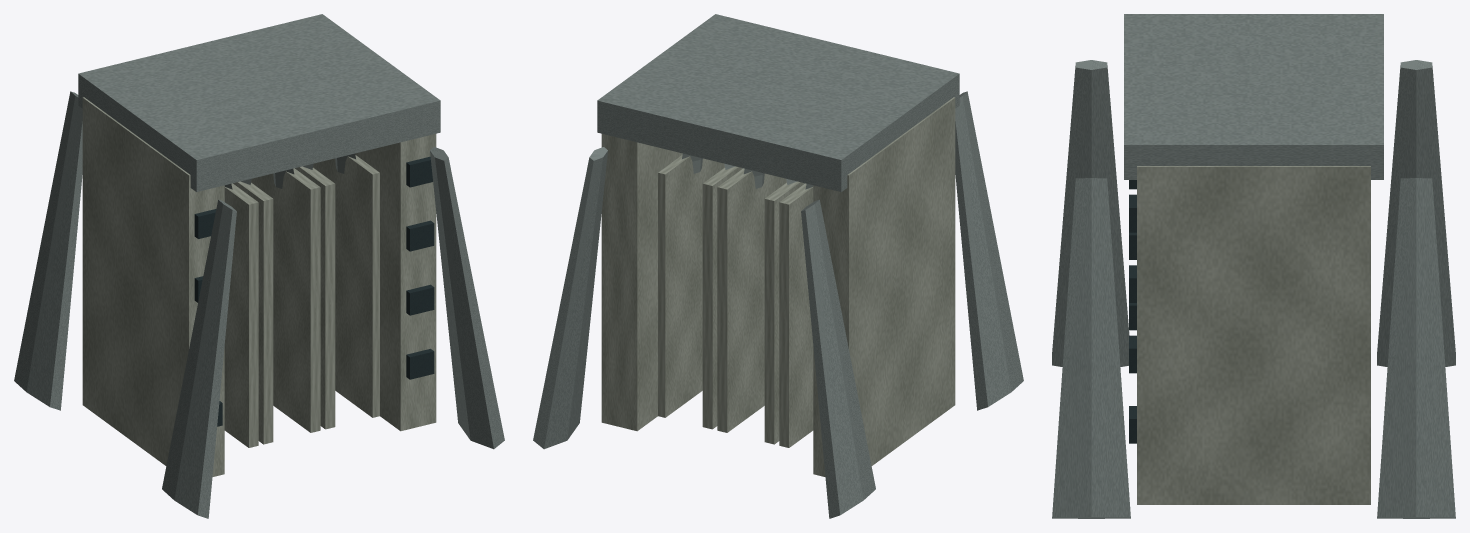
The model's file is rim_portal_01.fbx.
The picture shows the model from 3 angles, left to right: view 1: azimuth 30°, elevation 25°; view 2: azimuth 150°, elevation 25°; view 3: azimuth 270°, elevation 25°; orthographic projection. The views are drawn at different scales.
Parts seen in each view (by area): view 1: rim_portal_01_LOD0; view 2: rim_portal_01_LOD0; view 3: rim_portal_01_LOD0.
Boxes of the visible parts, <box> form: rim_portal_01_LOD0: <box>14,14,504,518</box>; rim_portal_01_LOD0: <box>533,14,1023,518</box>; rim_portal_01_LOD0: <box>1052,14,1455,518</box>.
Size of what is drawn, in the model's own units: 1 by 1 by 1.
